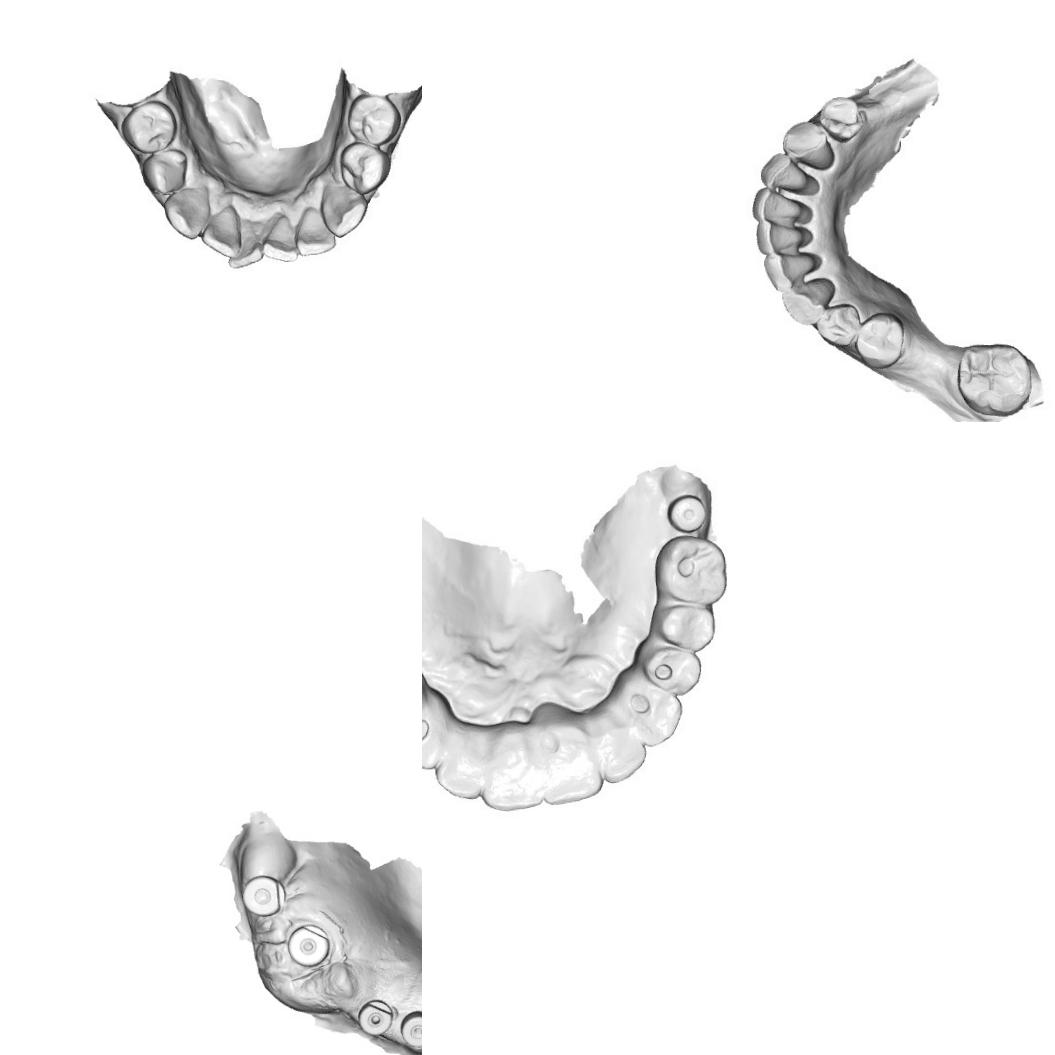canine: (616, 676, 682, 748), (779, 118, 836, 174), (780, 276, 839, 326), (166, 183, 212, 243), (325, 184, 371, 242), (422, 706, 443, 769)
implant: (238, 870, 288, 920), (284, 923, 334, 969), (356, 998, 395, 1037), (670, 493, 705, 531), (399, 1009, 422, 1049)
incisor: (541, 720, 603, 807), (488, 732, 544, 816), (592, 706, 648, 782), (435, 724, 491, 800), (758, 148, 812, 196), (750, 184, 806, 230), (764, 246, 819, 292), (754, 218, 810, 262), (204, 205, 246, 256), (266, 217, 301, 264), (229, 226, 263, 274), (302, 209, 331, 253)
molar: (954, 338, 1036, 421), (654, 537, 726, 608)
premolar: (635, 637, 700, 696), (852, 310, 906, 372), (650, 605, 718, 653), (346, 100, 398, 150), (334, 144, 386, 192), (814, 96, 866, 144), (814, 300, 863, 349), (124, 106, 169, 147), (145, 152, 189, 191)
